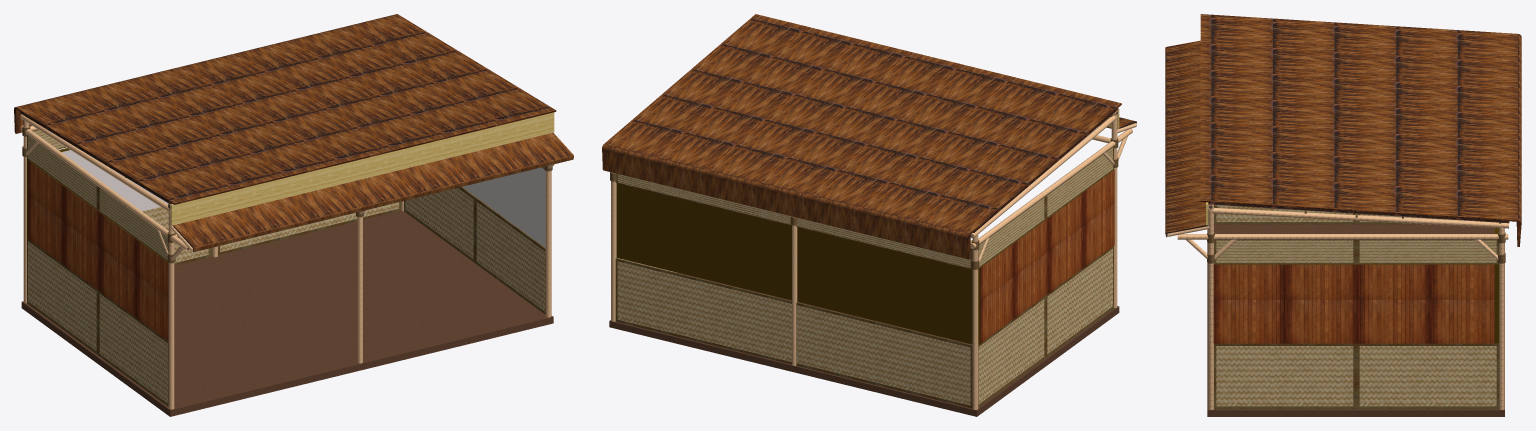
Rendered from stan_6x4_gubukws.glb.
3 views of the same model, side by side, from view 1: azimuth 30°, elevation 25°; view 2: azimuth 150°, elevation 25°; view 3: azimuth 270°, elevation 25° (orthographic). The views are drawn at different scales.
Parts seen in each view (by area): view 1: Object_15, Object_11, Object_17, Object_29, Object_9, Object_20, Object_26, Object_4, Object_7, Object_3, Object_10; view 2: Object_15, Object_17, Object_13, Object_29, Object_20, Object_26, Object_11, Object_7; view 3: Object_15, Object_29, Object_17, Object_20, Object_16, Object_11, Object_26, Object_10, Object_13.
Boxes of the visible parts, <box> form: Object_15: <box>15,14,573,252</box>; Object_11: <box>21,210,553,416</box>; Object_17: <box>28,166,545,403</box>; Object_29: <box>28,160,168,341</box>; Object_9: <box>170,112,554,225</box>; Object_20: <box>20,114,553,409</box>; Object_26: <box>27,130,545,406</box>; Object_4: <box>462,167,545,247</box>; Object_7: <box>28,136,167,260</box>; Object_3: <box>61,150,168,211</box>; Object_10: <box>14,107,556,204</box>; Object_15: <box>602,14,1136,259</box>; Object_17: <box>617,174,1112,405</box>; Object_13: <box>616,169,1114,344</box>; Object_29: <box>980,170,1114,343</box>; Object_20: <box>611,110,1136,409</box>; Object_26: <box>615,115,1113,408</box>; Object_11: <box>609,273,1119,416</box>; Object_7: <box>978,147,1112,266</box>; Object_15: <box>1165,14,1521,237</box>; Object_29: <box>1213,264,1494,343</box>; Object_17: <box>1216,205,1496,406</box>; Object_20: <box>1167,204,1508,409</box>; Object_16: <box>1216,240,1496,262</box>; Object_11: <box>1207,224,1504,416</box>; Object_26: <box>1214,205,1501,408</box>; Object_10: <box>1200,200,1521,246</box>; Object_13: <box>1214,228,1498,343</box>.
Bounding box in the file's own units: 6.11 × 3.28 × 4.9.
Materials: 25 (14 with a texture image).
